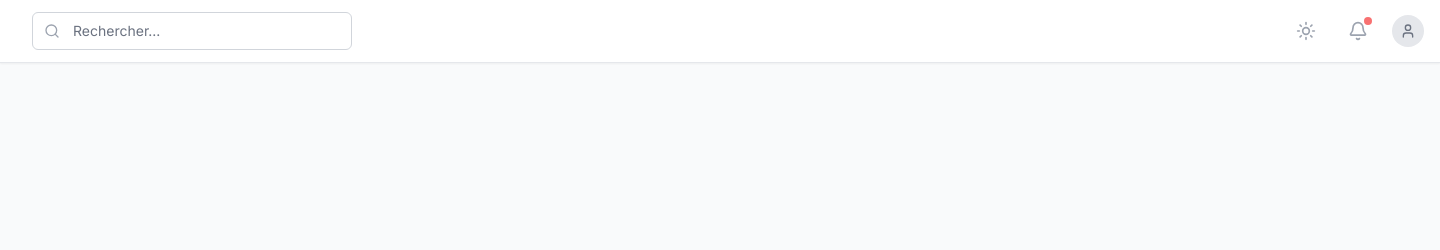
Test: Header › Profile Dropdown › shows profile dropdown when profile button is clicked
Click the 3rd button at [1408, 31], box [1392, 15, 1424, 47]
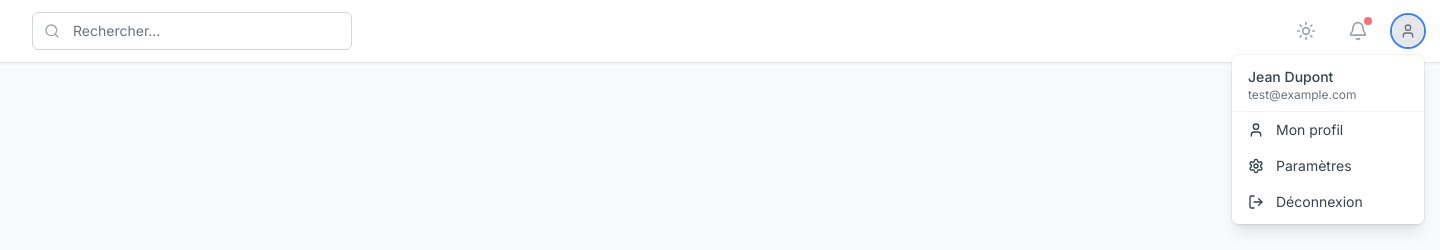
Expected: the link "Mon profil" is shown, [1248, 121, 1343, 138]
Expected: the link "Paramètres" is shown, [1248, 157, 1352, 174]
Expected: the button "Déconnexion" is shown, [1232, 184, 1424, 220]
